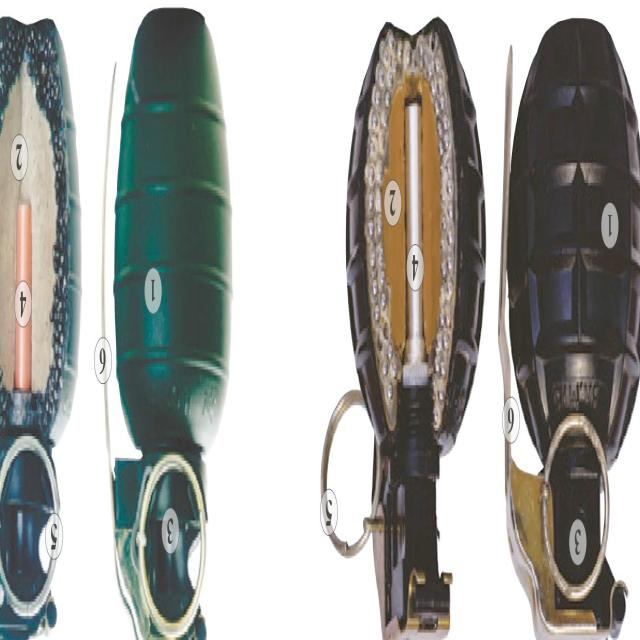grenade: (499, 18, 640, 640), (102, 11, 235, 640)
